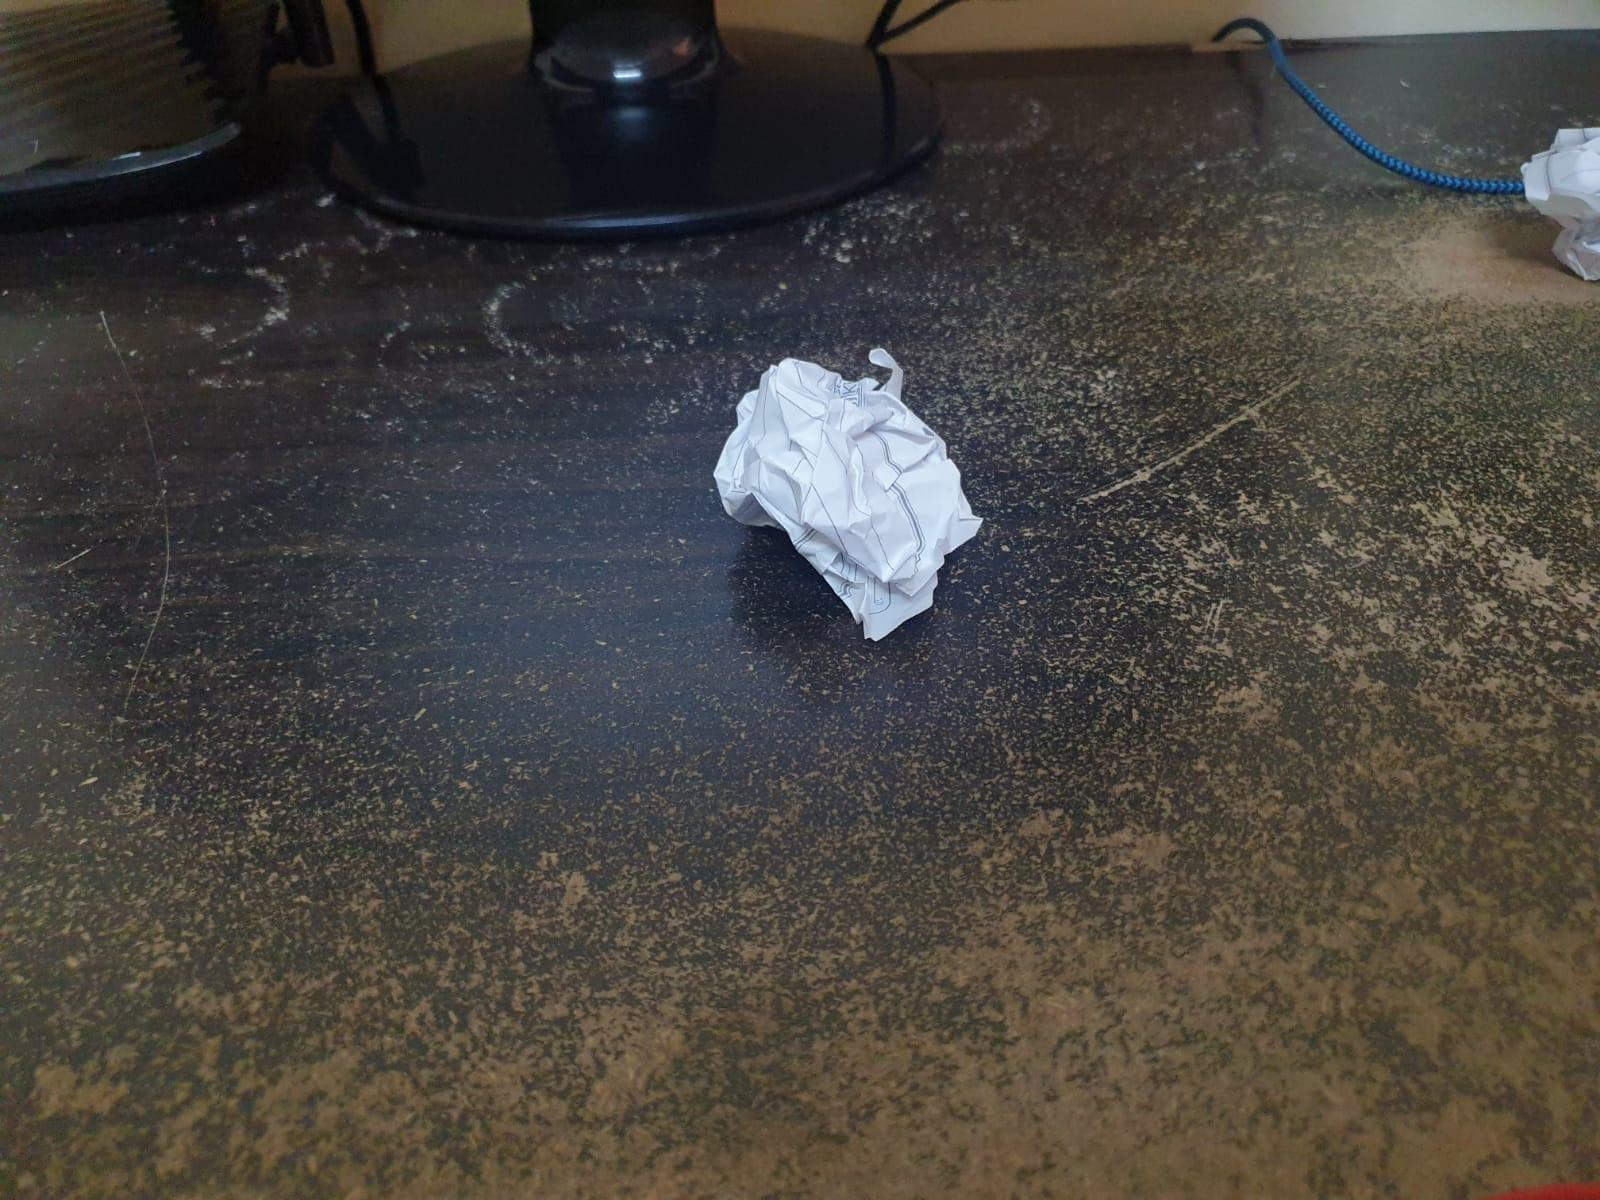Paper: (718, 343, 984, 614)
